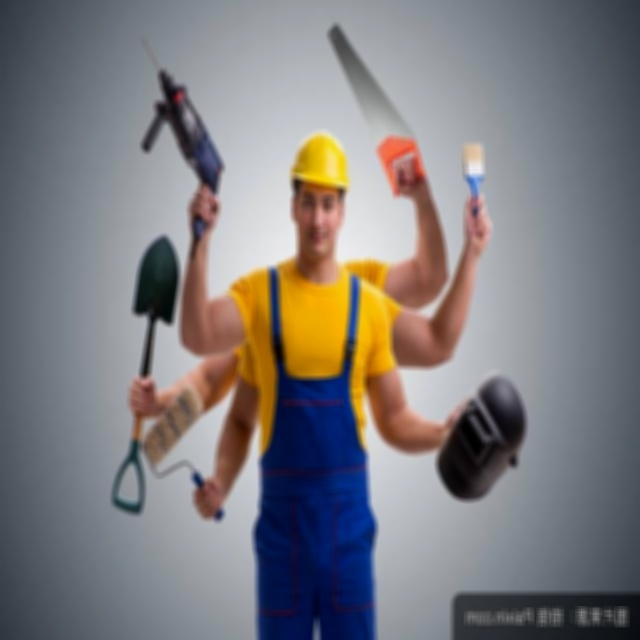Con_Casco: (291, 129, 348, 256)
Sin_Chaleco: (254, 261, 373, 521)
